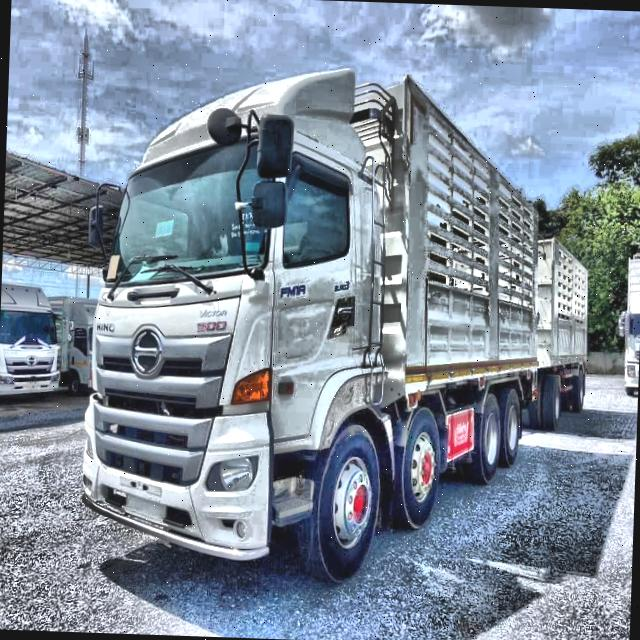trailer: (50, 45, 614, 608)
